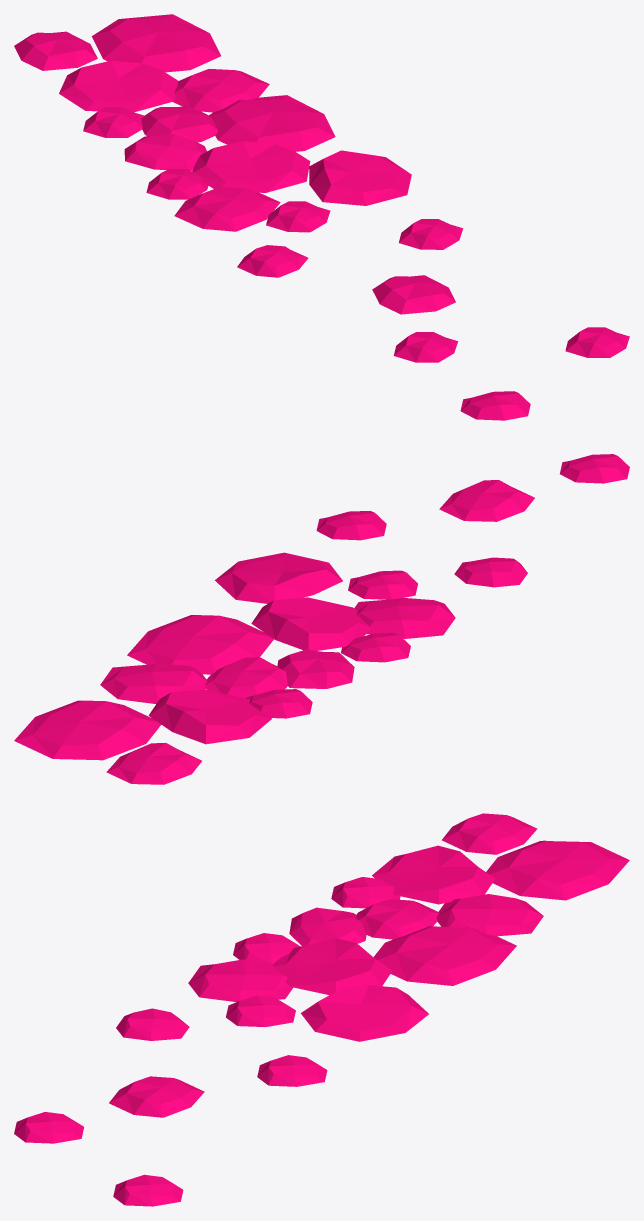
The model's file is SM_SS_Track.fbx.
3 renders of one model, top to bottom at view 1: azimuth 30°, elevation 25°; view 2: azimuth 150°, elevation 25°; view 3: azimuth 330°, elevation 25°, orthographic. The views are drawn at different scales.
Parts seen in each view (by area): view 1: SM_SS_Track; view 2: SM_SS_Track; view 3: SM_SS_Track.
Boxes of the visible parts, x1,y1,x2,y2 form: SM_SS_Track: (14, 14, 629, 362); SM_SS_Track: (14, 391, 629, 784); SM_SS_Track: (14, 813, 629, 1206).
Bounding box in the file's own units: 55.2 × 203 × 4.34.
